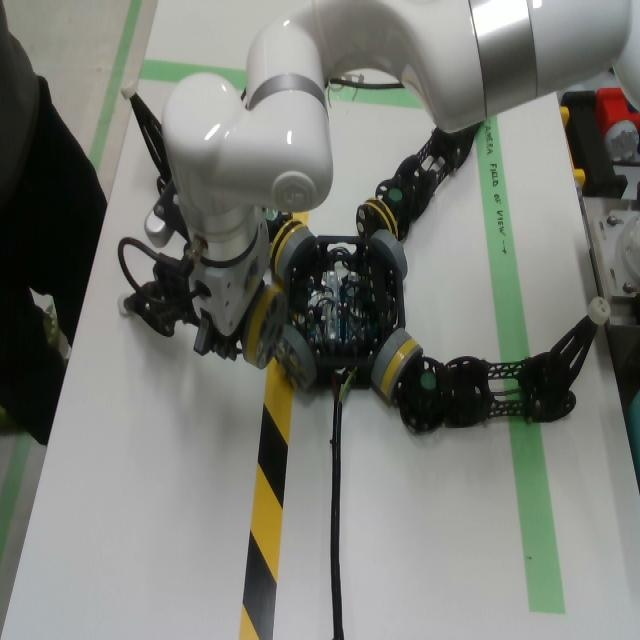body: (284, 236, 405, 389)
body_connector: (275, 325, 318, 391), (371, 328, 412, 388), (276, 227, 315, 279), (370, 229, 408, 281)
gripper: (189, 207, 269, 360)
leg: (380, 297, 611, 433), (355, 124, 480, 241), (116, 263, 200, 337), (121, 77, 172, 196), (233, 279, 287, 371), (263, 208, 305, 271)
leg_connector: (243, 281, 287, 371), (379, 339, 423, 403), (269, 220, 307, 277), (355, 199, 398, 240)
leg_marker: (421, 373, 436, 389), (264, 208, 278, 221), (389, 188, 402, 201)
